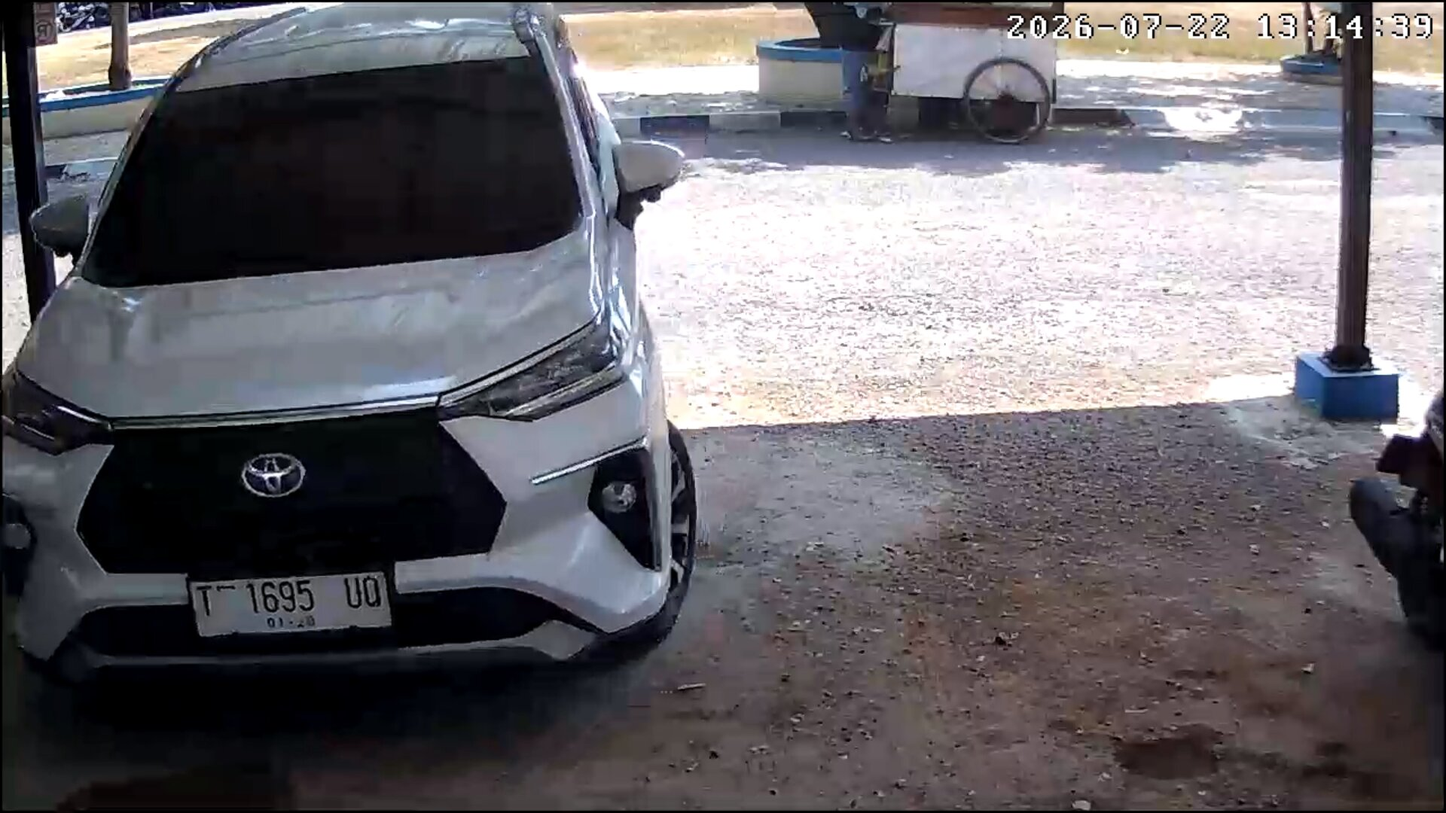plat nomor: (183, 569, 395, 642)
